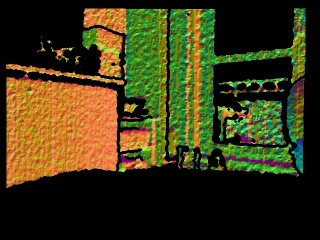station: (176, 145, 200, 171)
